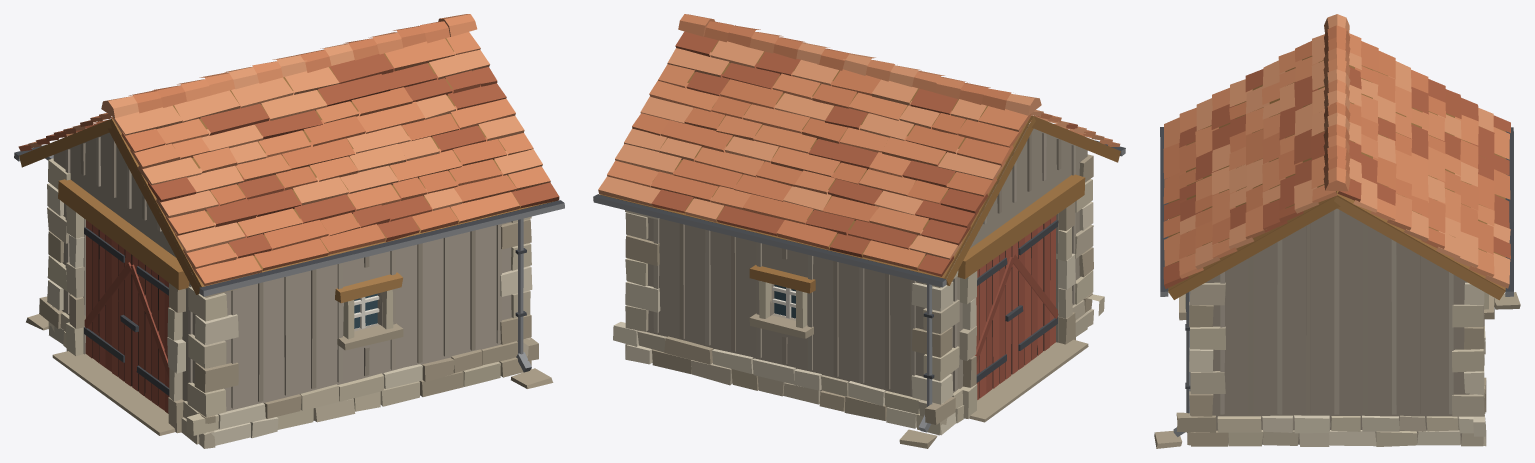
File: remise.glb
3 renders of one model, left to right at view 1: azimuth 30°, elevation 25°; view 2: azimuth 150°, elevation 25°; view 3: azimuth 270°, elevation 25°, orthographic. The views are drawn at different scales.
Visible parts, largest first — view 1: remise; view 2: remise; view 3: remise.
Boxes of the visible parts, x1,y1,x2,y2 form: remise: [14, 14, 564, 448]; remise: [593, 14, 1125, 448]; remise: [1154, 14, 1520, 448].
Bounding box in the file's own units: 6.88 × 5.34 × 6.4.
